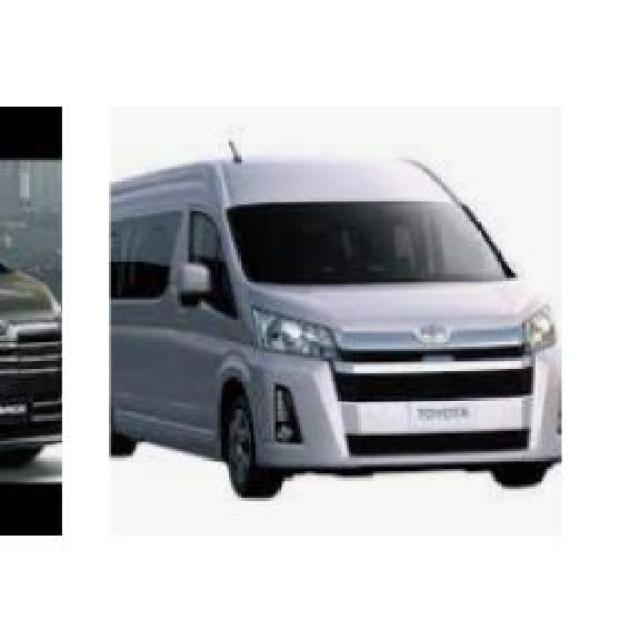Van: (113, 142, 560, 498)
